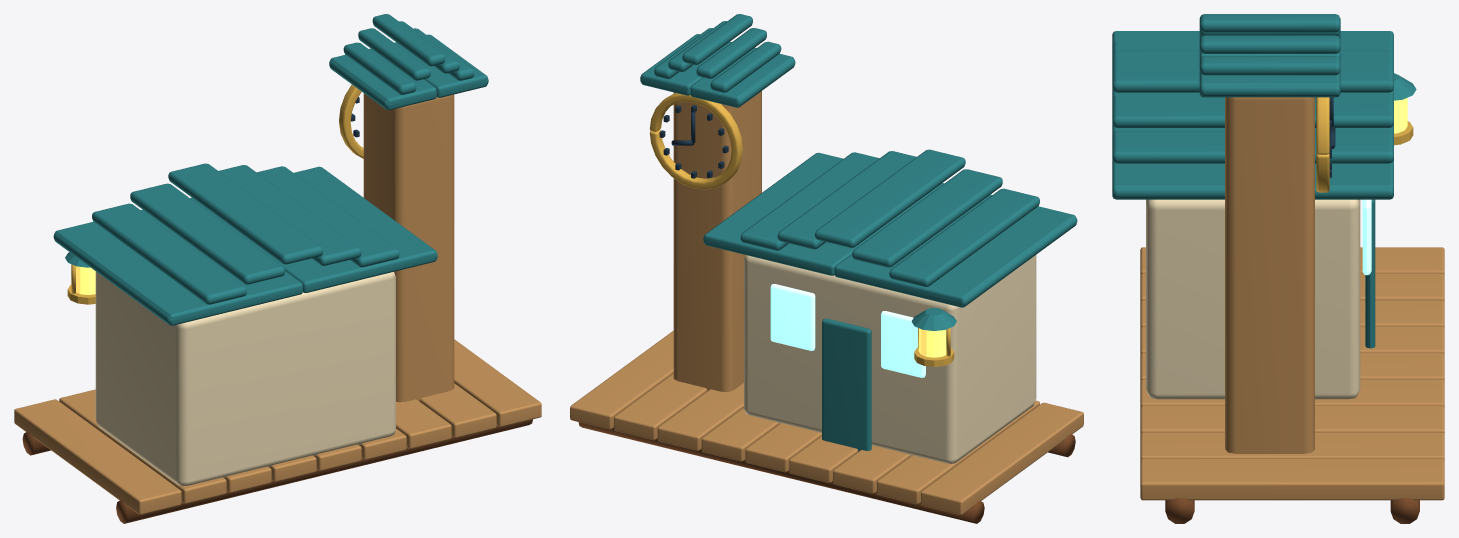
Rendered from station-clock.glb.
The picture shows the model from 3 angles, left to right: view 1: azimuth 30°, elevation 25°; view 2: azimuth 150°, elevation 25°; view 3: azimuth 270°, elevation 25°; orthographic projection. The views are drawn at different scales.
Parts seen in each view (by area): view 1: Structure; view 2: Structure; view 3: Structure.
Boxes of the visible parts, x1,y1,x2,y2 form: Structure: (14,14,541,523); Structure: (570,14,1083,523); Structure: (1112,14,1444,523).
Size of the model in its own units: 5 by 4.49 by 2.95.
